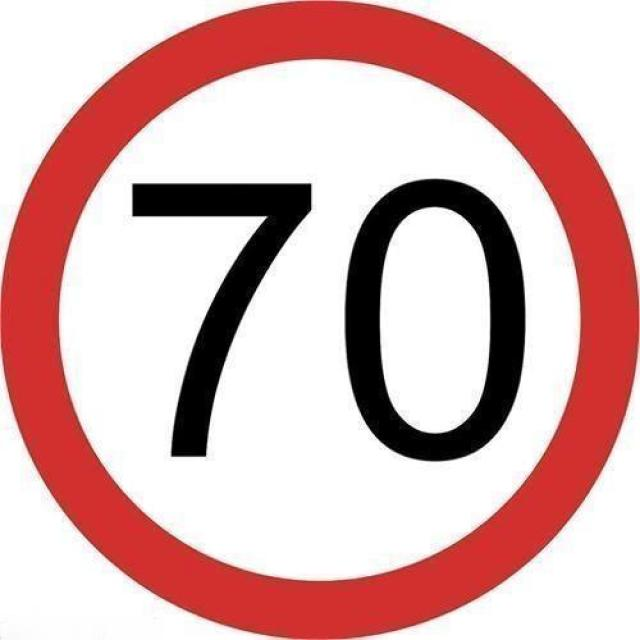speed limit 70: (3, 0, 638, 640)
